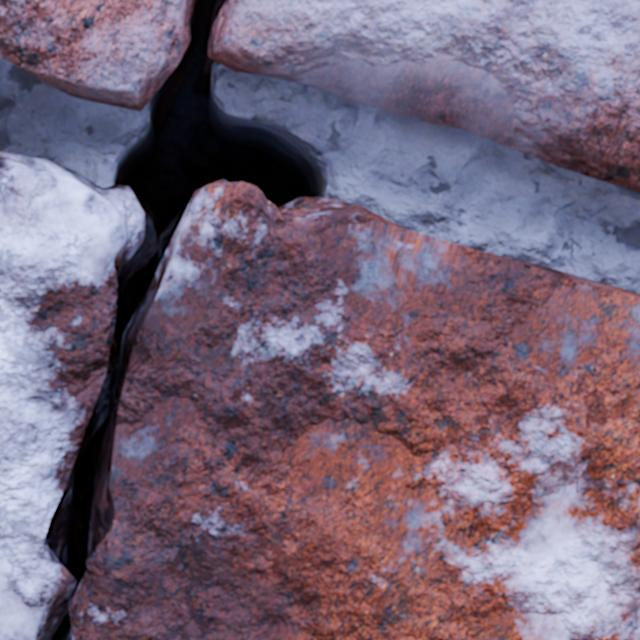broken_brick: (74, 180, 639, 639), (210, 0, 639, 192), (0, 152, 144, 639), (0, 0, 181, 111)
crack: (33, 0, 327, 639)
